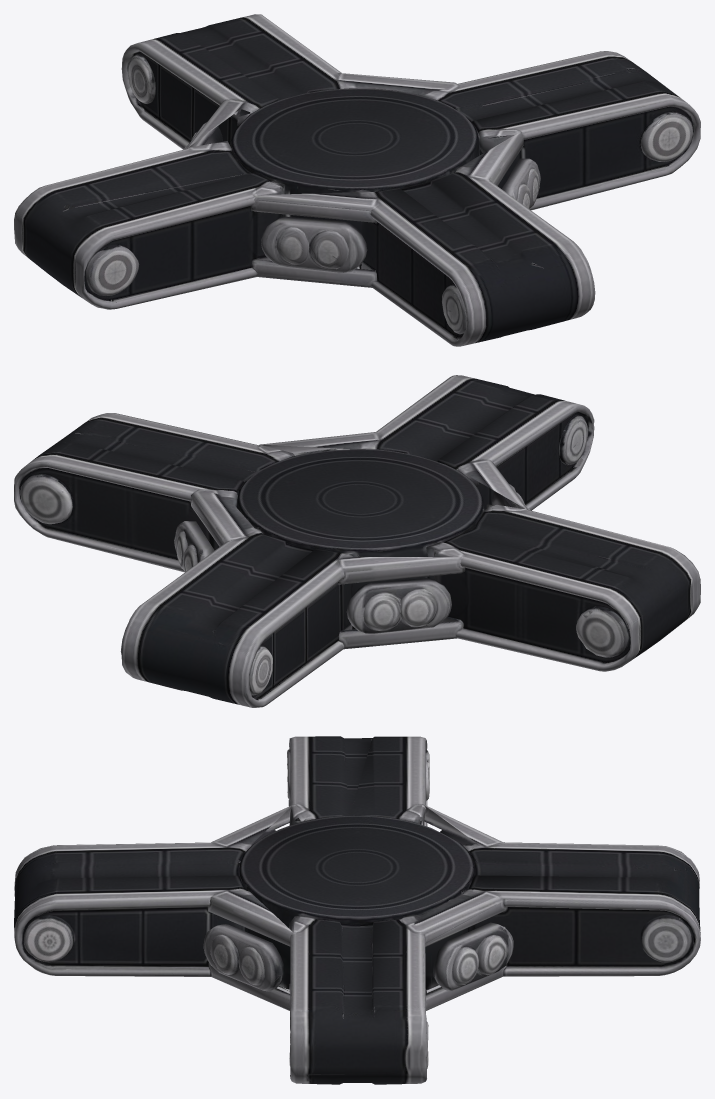
File: s2_r5c4_y_junction_conveyor.glb
3 views of the same model, one above another, from view 1: azimuth 30°, elevation 25°; view 2: azimuth 150°, elevation 25°; view 3: azimuth 270°, elevation 25° (orthographic).
Bounding box in the file's own units: 1 × 0.1314 × 0.9813.
Materials: 1 (1 with a texture image).
